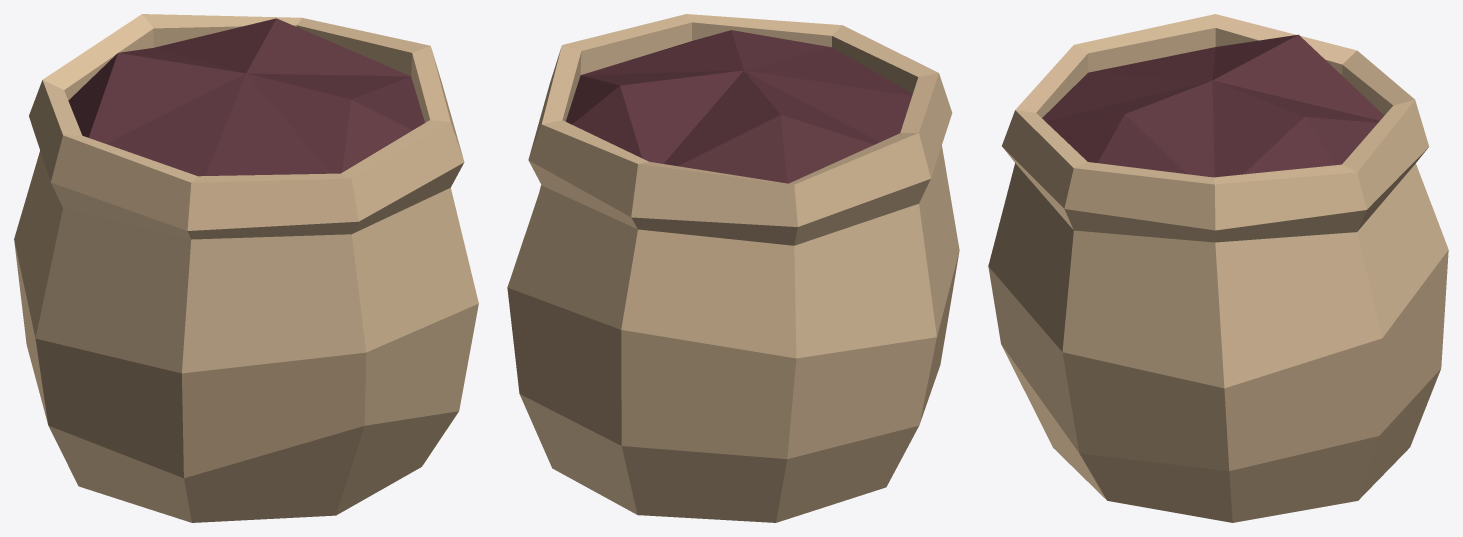
File: egypt-egypt-spice-medium.glb
3 views of the same model, side by side, from view 1: azimuth 30°, elevation 25°; view 2: azimuth 150°, elevation 25°; view 3: azimuth 270°, elevation 25° (orthographic). The views are drawn at different scales.
Visible parts, largest first — view 1: egypt-spice-medium; view 2: egypt-spice-medium; view 3: egypt-spice-medium.
Boxes of the visible parts, box(x1,y1,x2,y2) form: egypt-spice-medium: box(14, 14, 478, 522); egypt-spice-medium: box(507, 14, 959, 522); egypt-spice-medium: box(988, 14, 1448, 522).
Size of the model in its own units: 0.8386 by 0.7443 by 0.8356.
